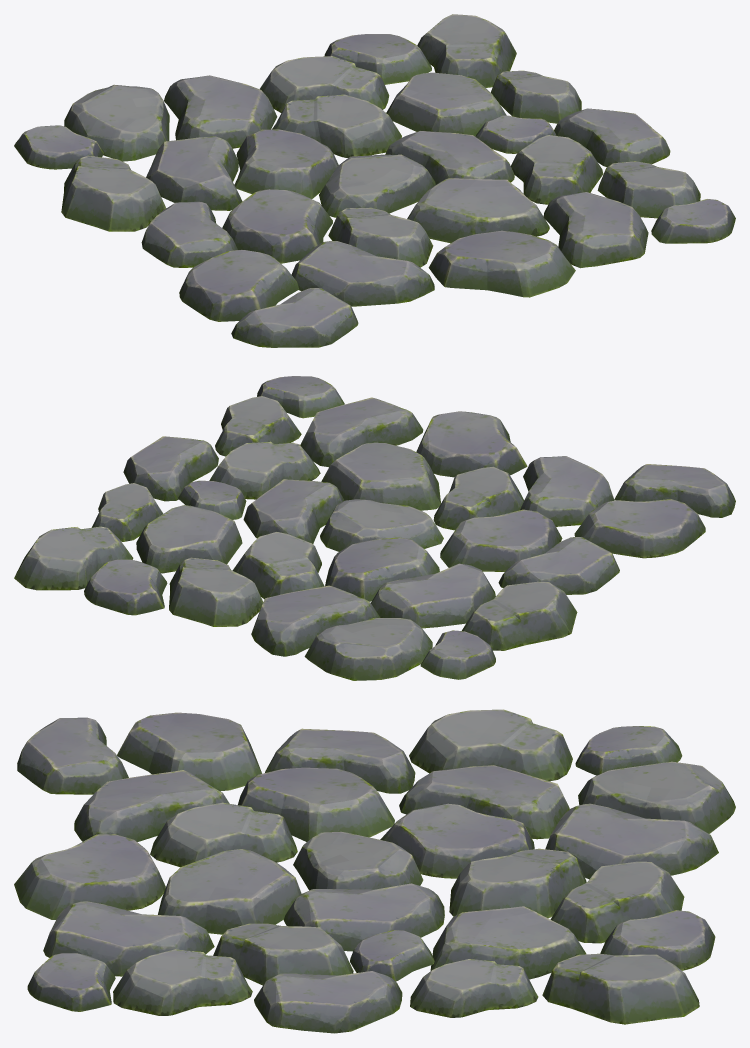
File: jardin_camino_piedra1.obj
The picture shows the model from 3 angles, top to bottom: view 1: azimuth 30°, elevation 25°; view 2: azimuth 150°, elevation 25°; view 3: azimuth 270°, elevation 25°; orthographic projection. The views are drawn at different scales.
Parts seen in each view (by area): view 1: jardin_camino_piedra1; view 2: jardin_camino_piedra1; view 3: jardin_camino_piedra1.
Boxes of the visible parts, left/top/right/bottom form: jardin_camino_piedra1: left=14, top=14, right=735, bottom=347; jardin_camino_piedra1: left=14, top=376, right=735, bottom=680; jardin_camino_piedra1: left=14, top=709, right=735, bottom=1033.
Size of the model in its own units: 2.11 by 0.1128 by 2.13.
